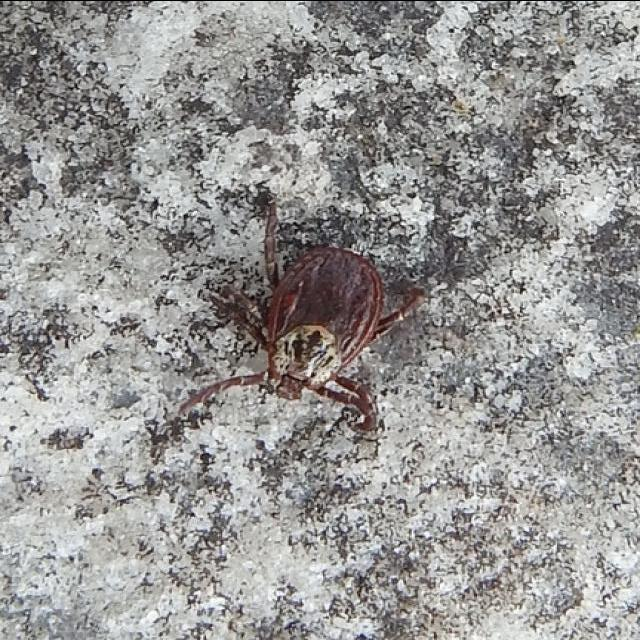Dermacentor Reticulatus-F: (178, 201, 425, 433)
